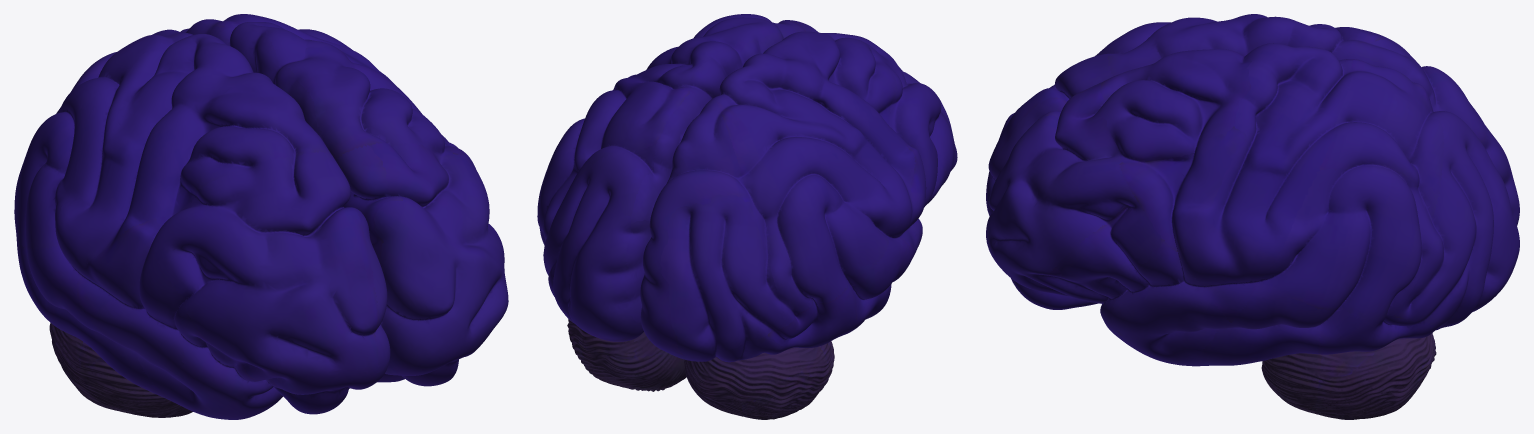
The model's file is brain.glb.
3 views of the same model, side by side, from view 1: azimuth 30°, elevation 25°; view 2: azimuth 150°, elevation 25°; view 3: azimuth 270°, elevation 25° (orthographic). The views are drawn at different scales.
Bounding box in the file's own units: 1.49 × 1.35 × 1.9.
1 material, 1 textured.
